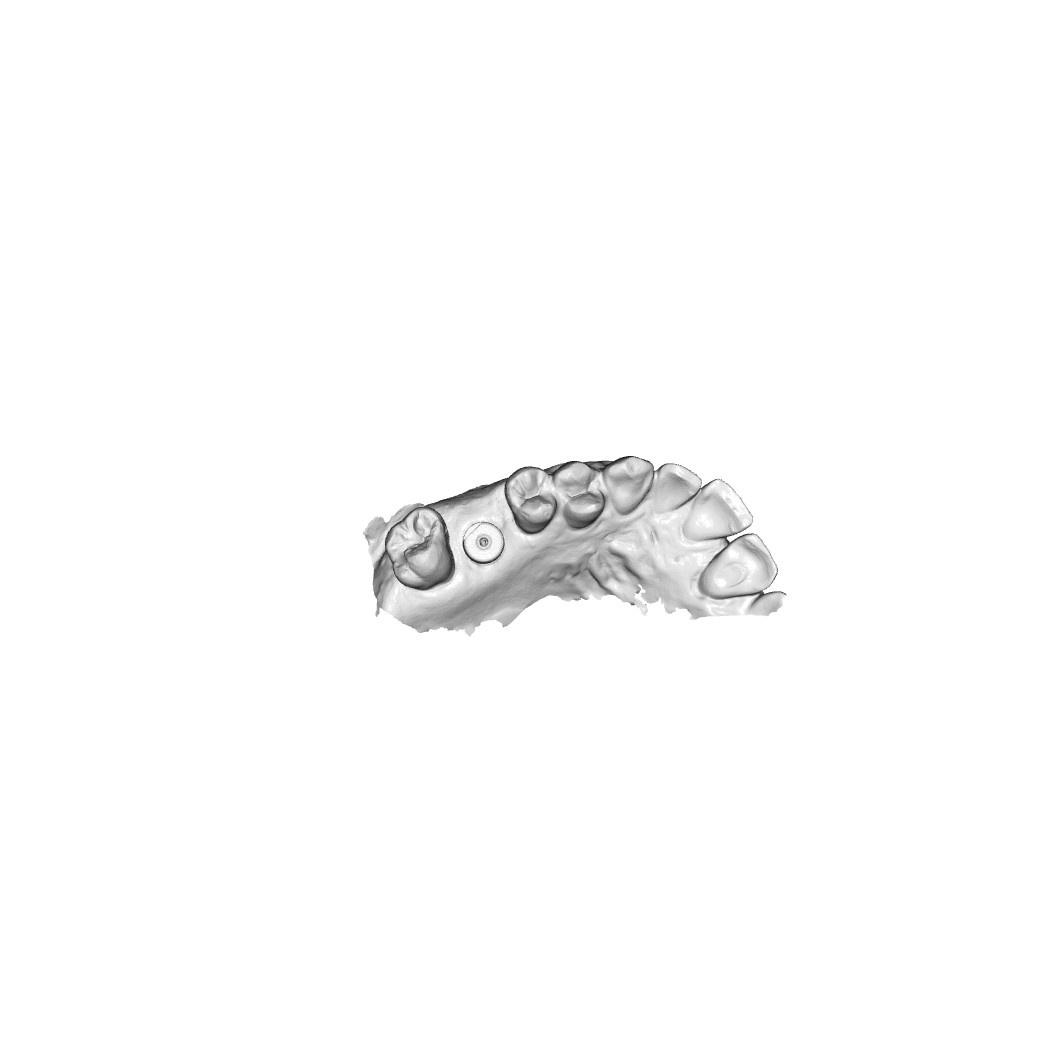canine: (610, 456, 650, 516)
implant: (463, 523, 505, 564)
incisor: (697, 538, 777, 605), (686, 479, 747, 542), (652, 465, 697, 518)
molar: (384, 511, 448, 588)
premolar: (505, 465, 564, 531), (556, 461, 605, 520)
